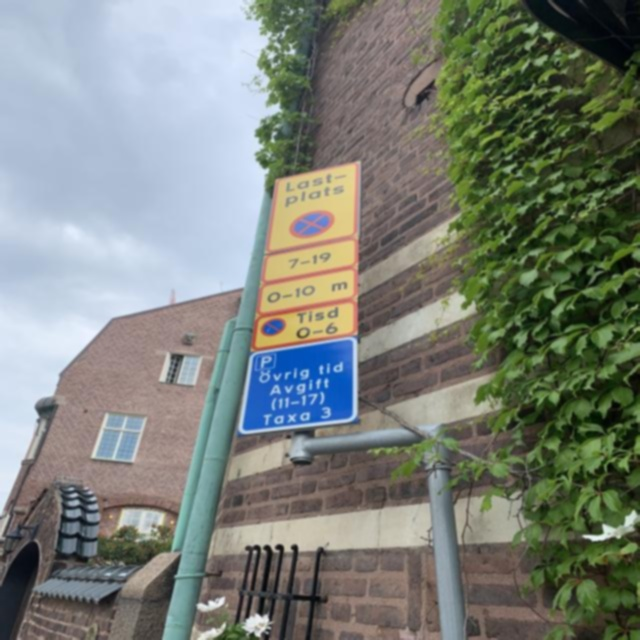lastplats: (261, 160, 364, 256)
